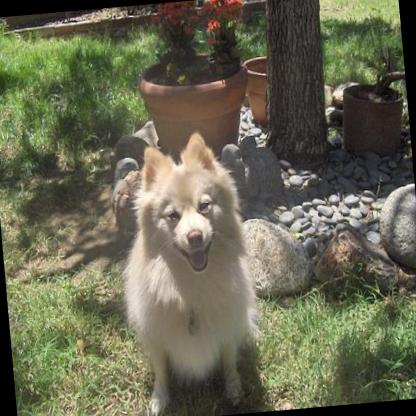Pomeranian: (110, 126, 260, 414)
